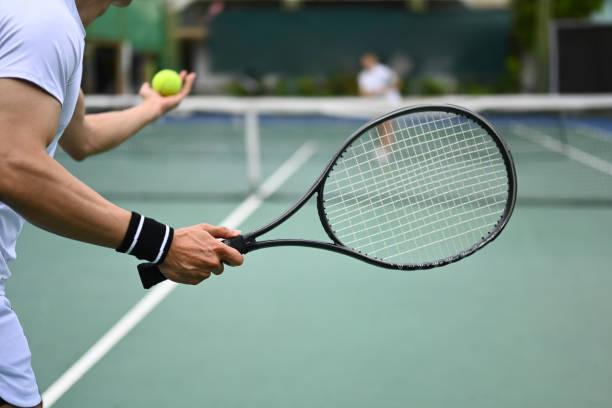ball_tennis: (153, 69, 183, 98)
